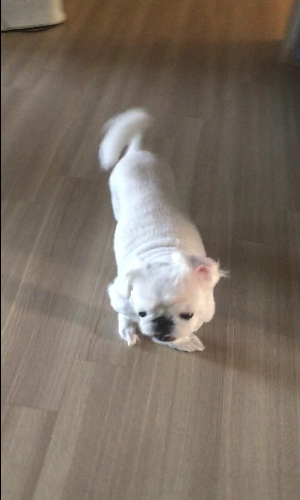ddubi: (93, 105, 226, 357)
